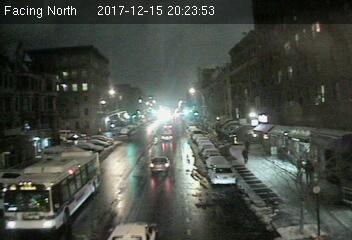bus: (6, 151, 100, 235)
car: (105, 221, 160, 240), (208, 164, 236, 183), (149, 156, 170, 173)
pedestrian: (242, 148, 250, 165)
